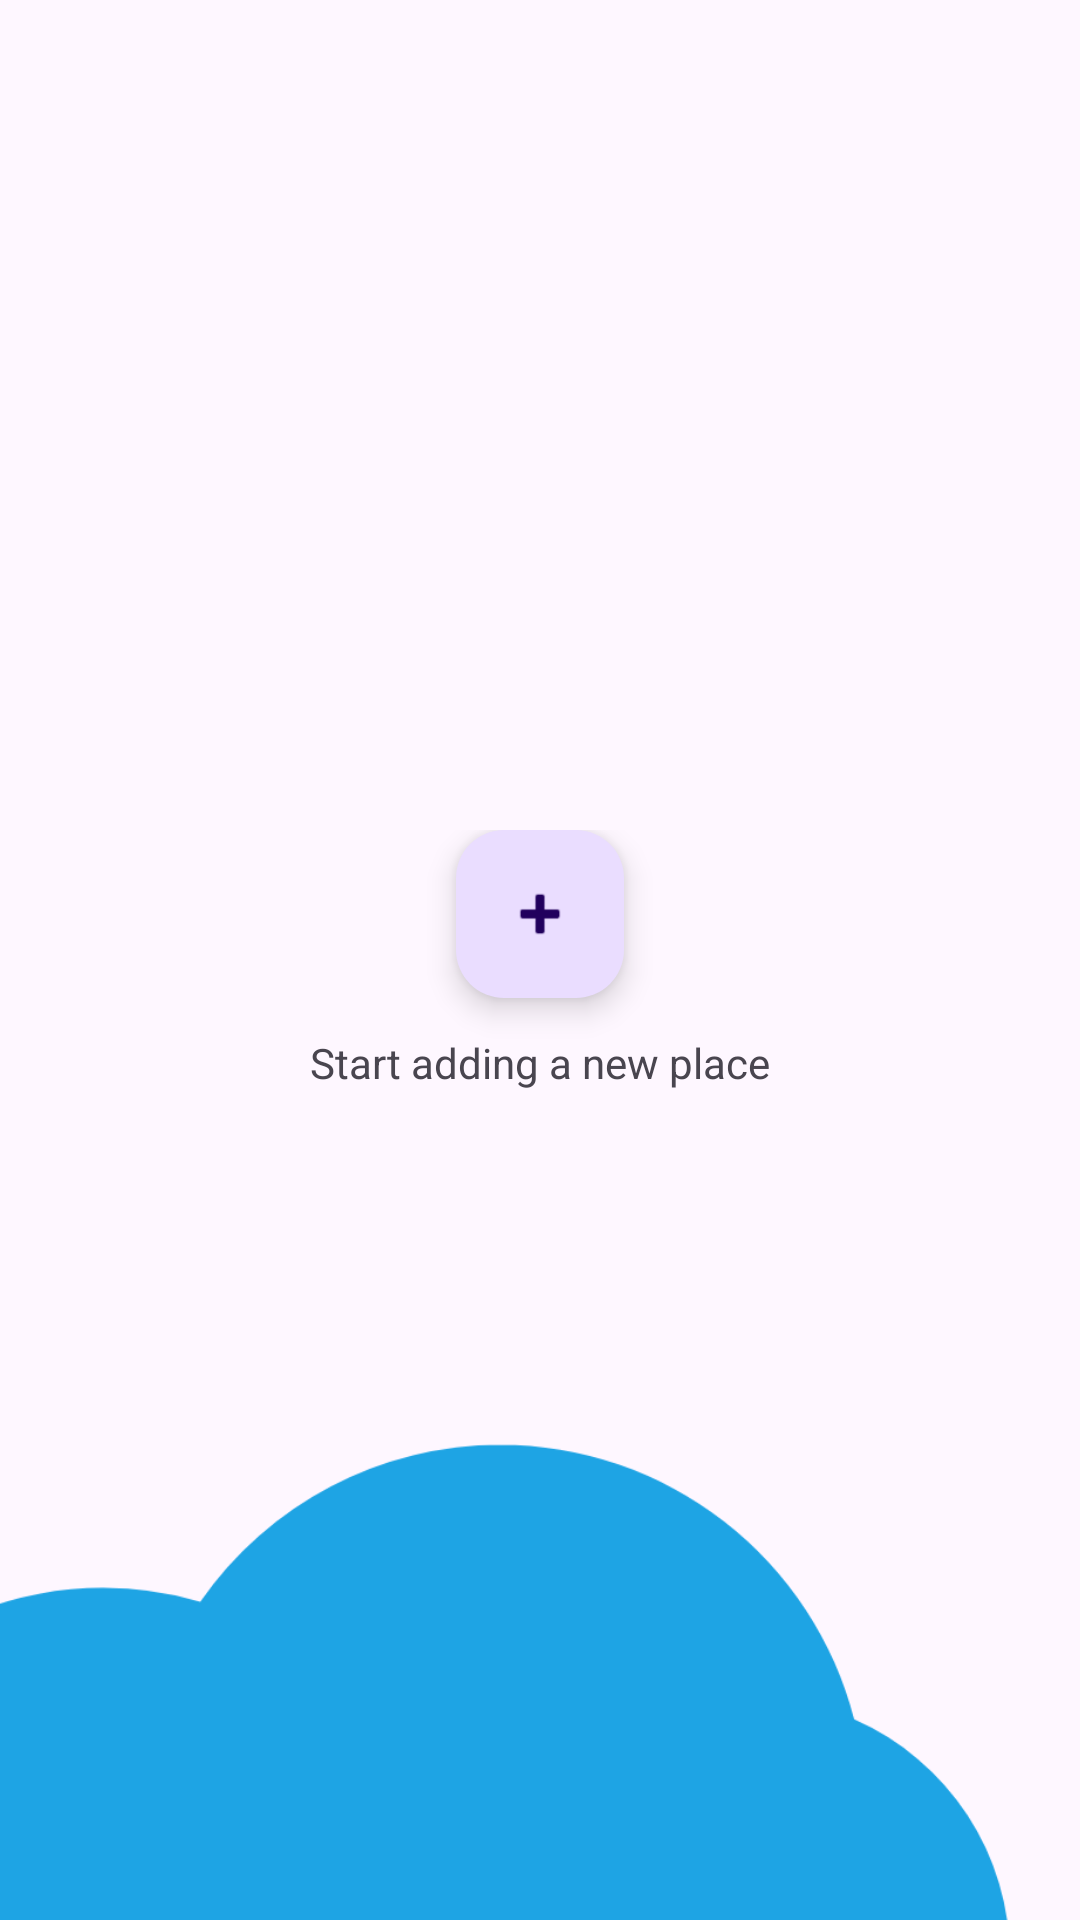

Locate icon controls on the screen. Image size 1080*1920, boxes as box(x1, y1, x2, y2).
add: box(456, 830, 624, 998)
